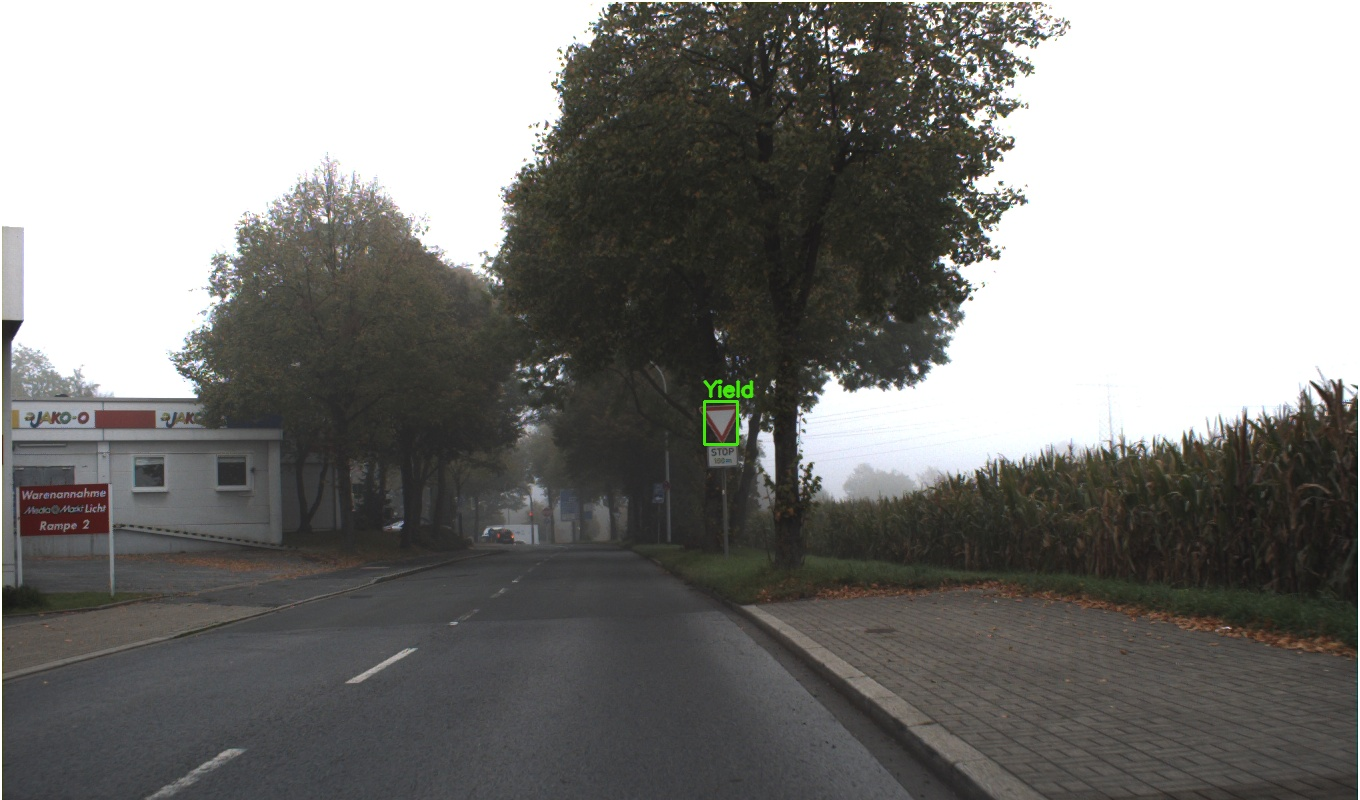Bicycles crossing: (1211, 206, 1319, 305)
Yield: (800, 462, 821, 483)
